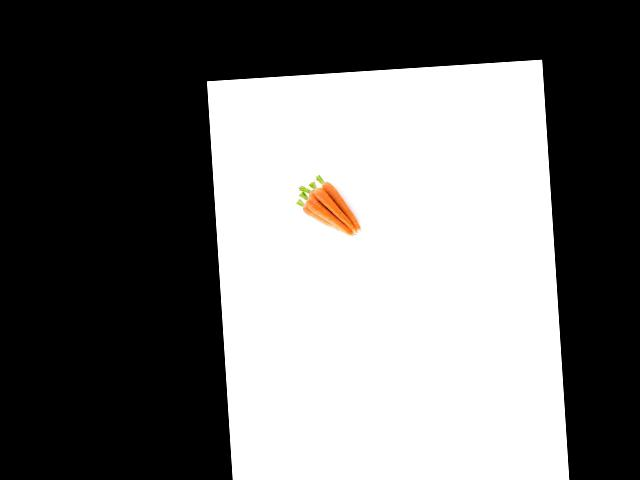carrot: (322, 176, 365, 230)
